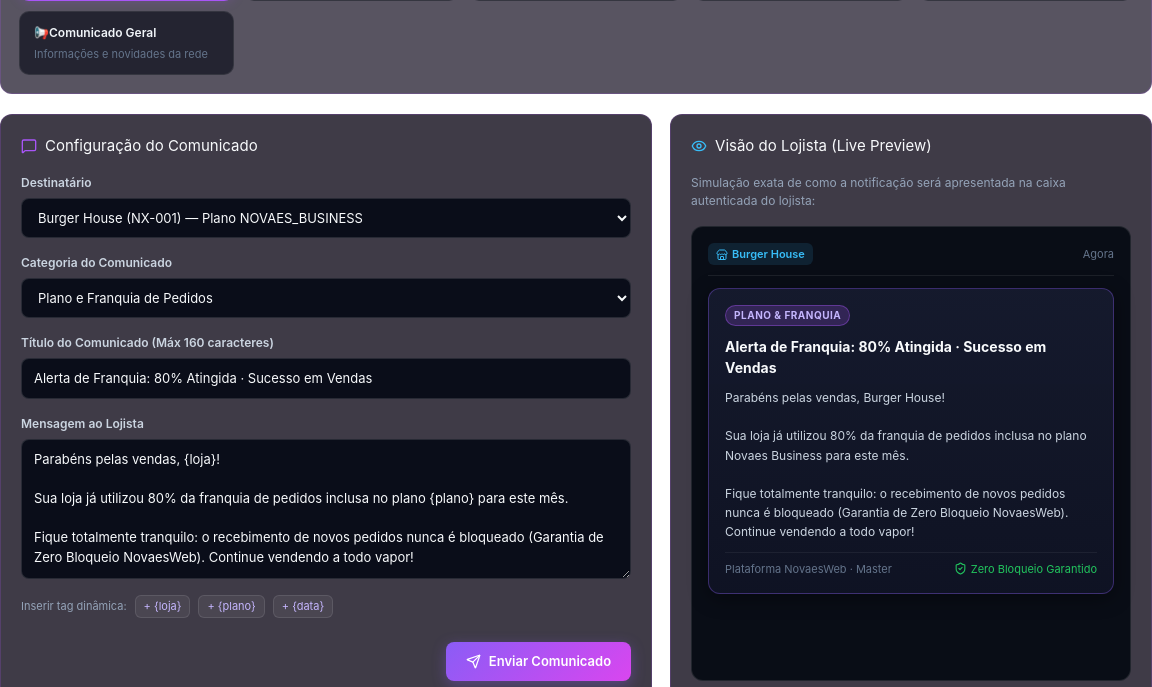
Test: StoreMessengerSection (Pilar C: Automações e Mensageria com o Lojista) › permite envio de comunicado e exibe alerta de sucesso
The image size is (1152, 687).
(page scrolled)
Click the button "Enviar Comunicado" at (538, 661), box [446,642,631,681]
(page scrolled)
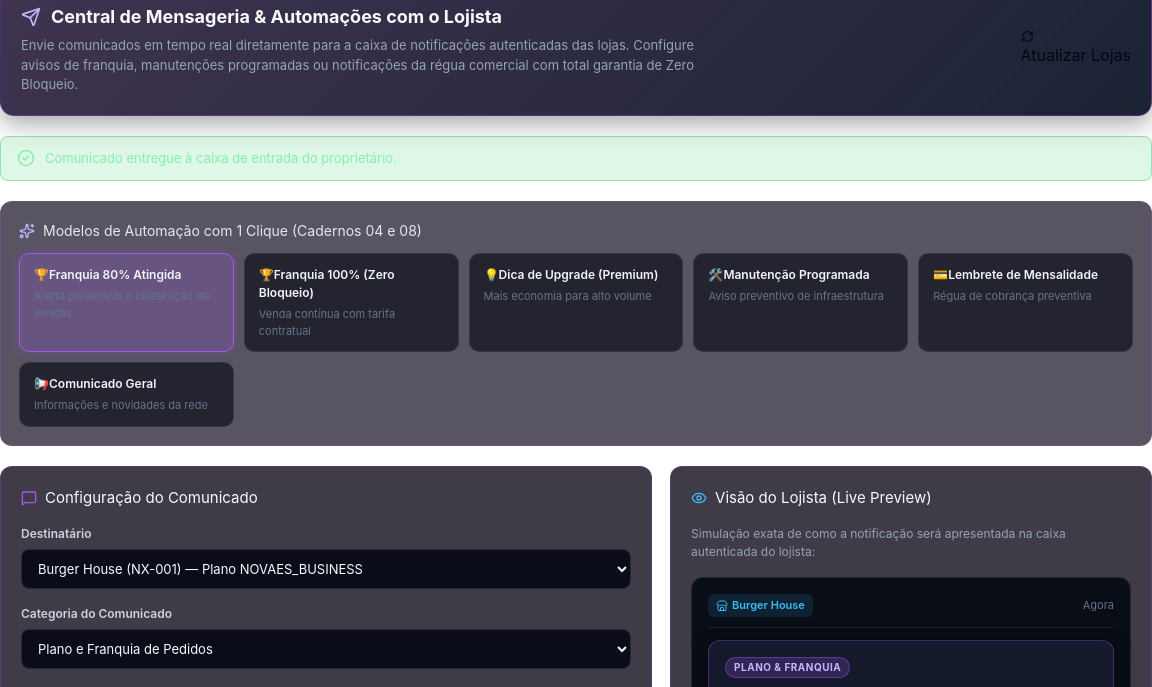
Expected: the text "Comunicado entregue à caixa de entrada do proprietário." is shown, [45,148,397,168]
